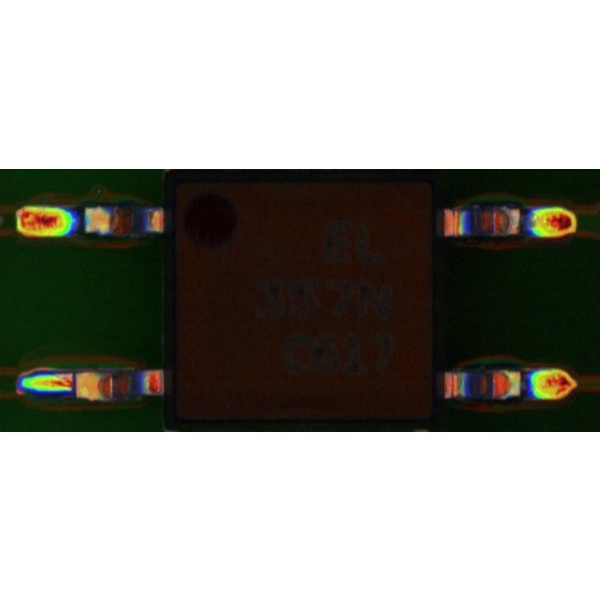Bad_podu: (59, 375, 86, 391)
